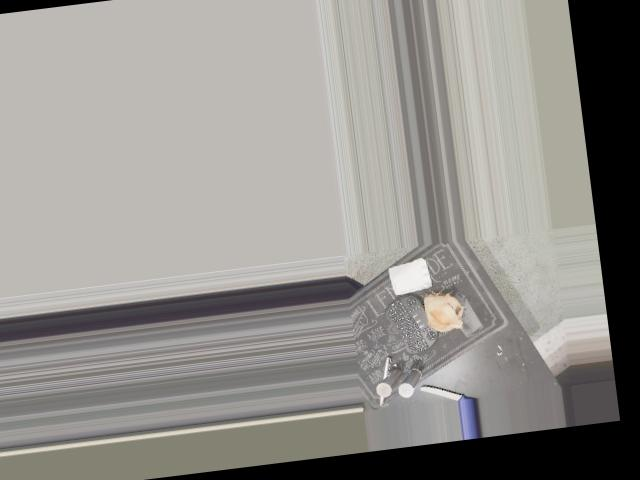onion: (418, 289, 465, 336)
